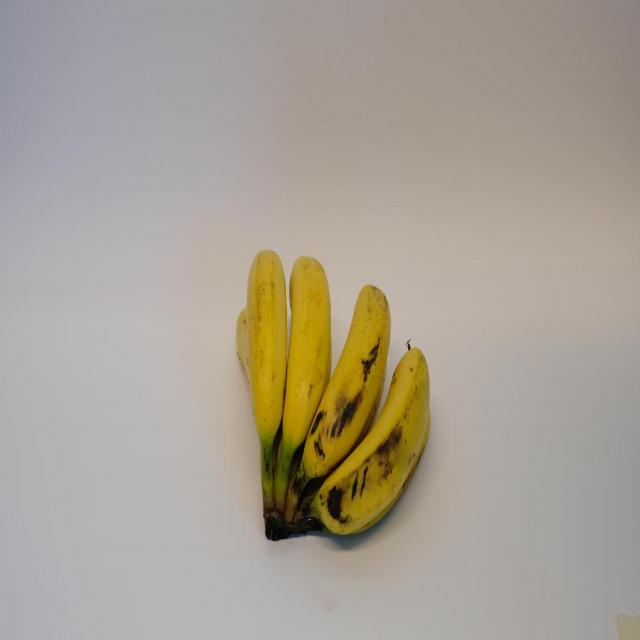banana: (318, 329, 434, 535), (311, 278, 392, 469), (287, 249, 328, 459), (249, 244, 287, 461)
